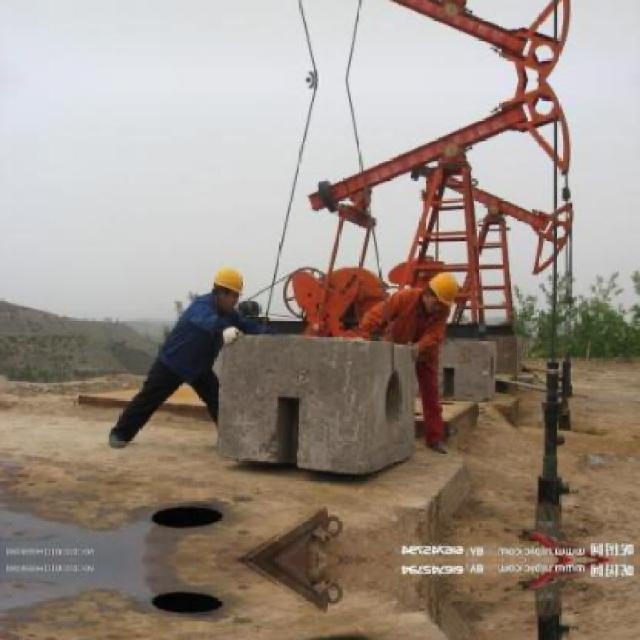helmet: (208, 262, 246, 312), (423, 269, 469, 309)
